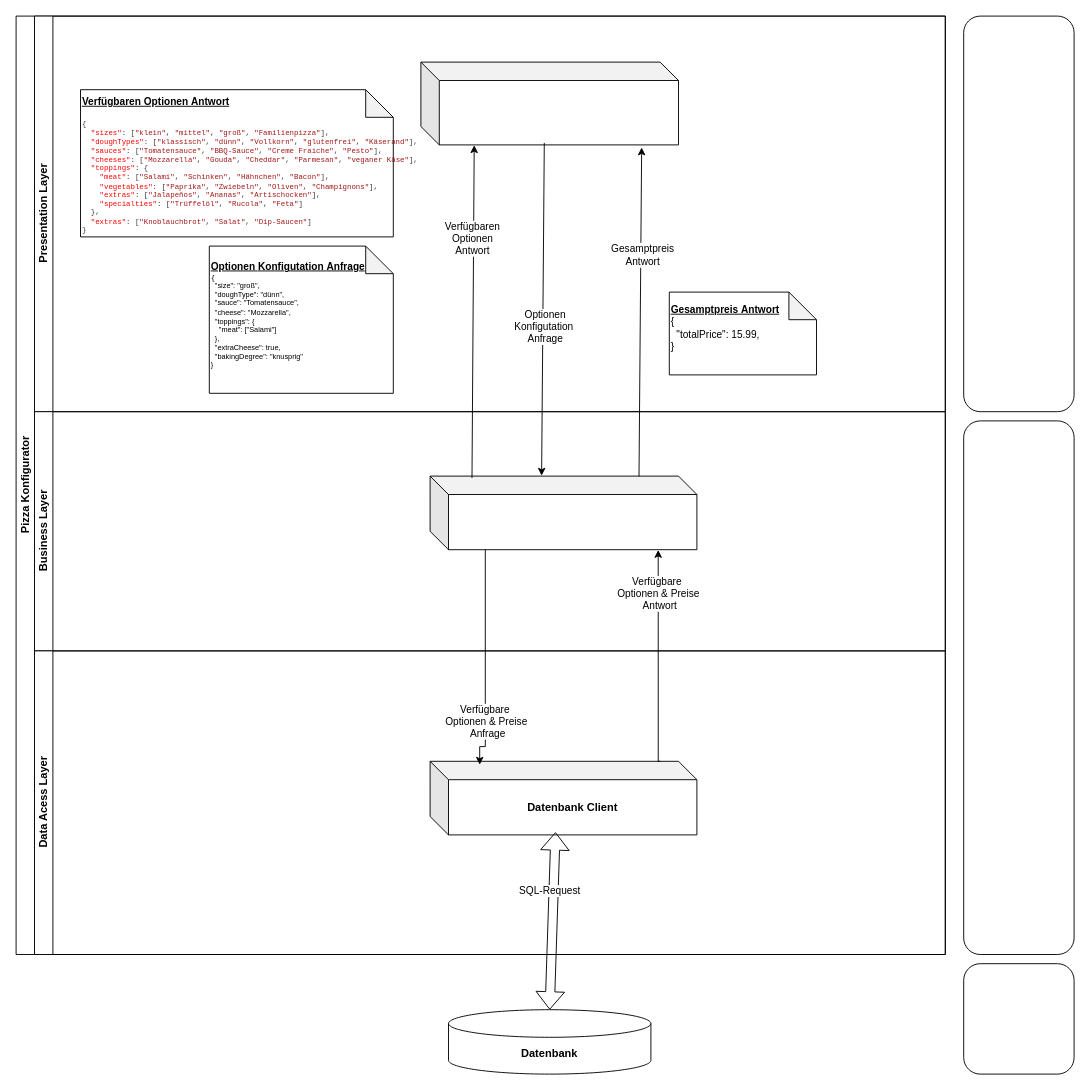
This 1090x1090 diagram has some shape labels left out. The centre of each missing label's shape, as x and y in pixels:
"Backend Client" goes at pixel 563 512.
"Backend Server" goes at pixel 1018 687.
"Benutzerschnittstelle (UI)" goes at pixel 549 103.
"Client Browser" goes at pixel 1018 213.
"External Database" goes at pixel 1018 1018.
